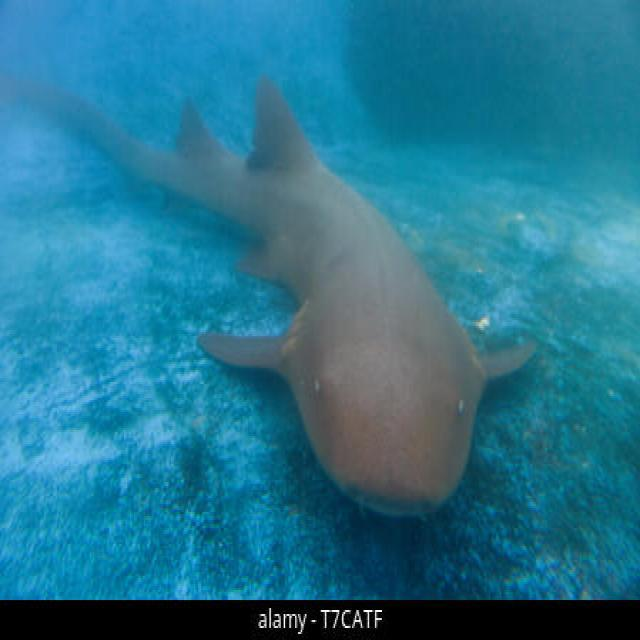Shark: (17, 18, 566, 540)
